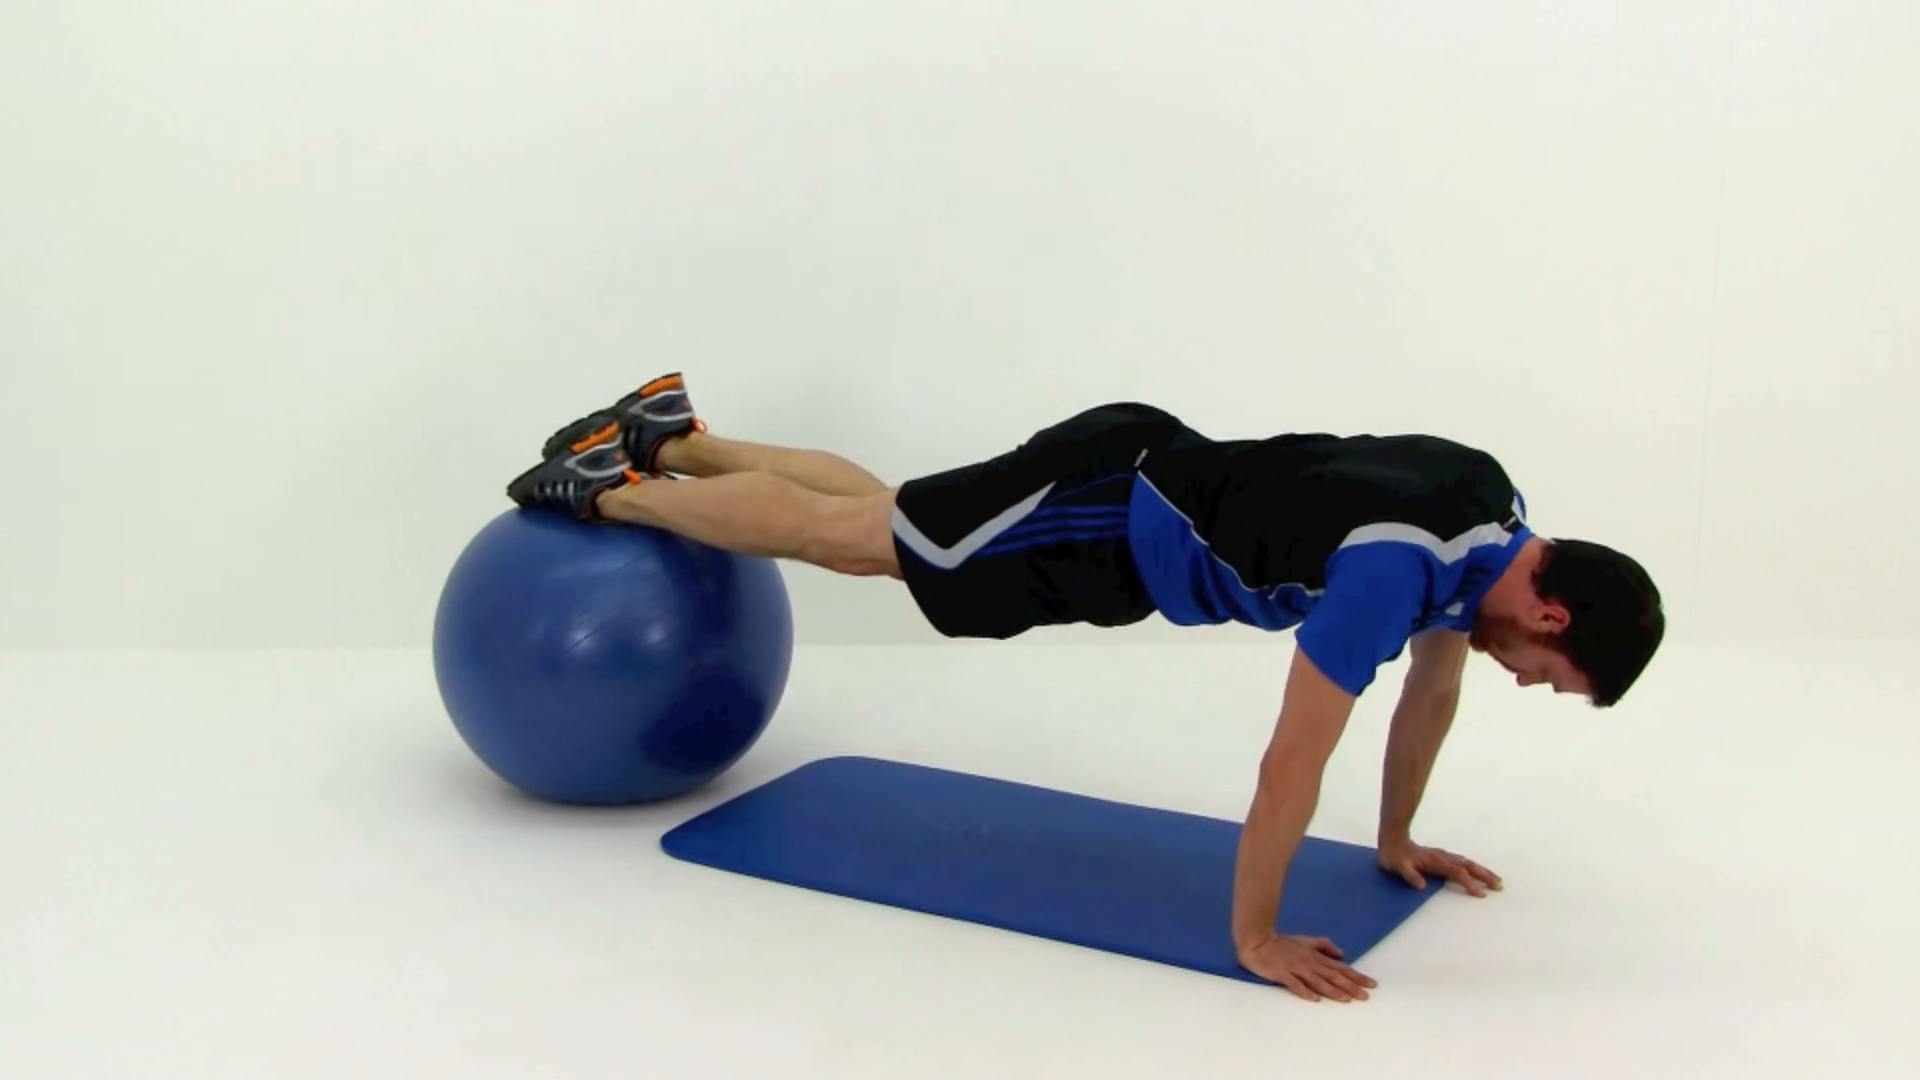yogaball: (415, 484, 803, 816)
